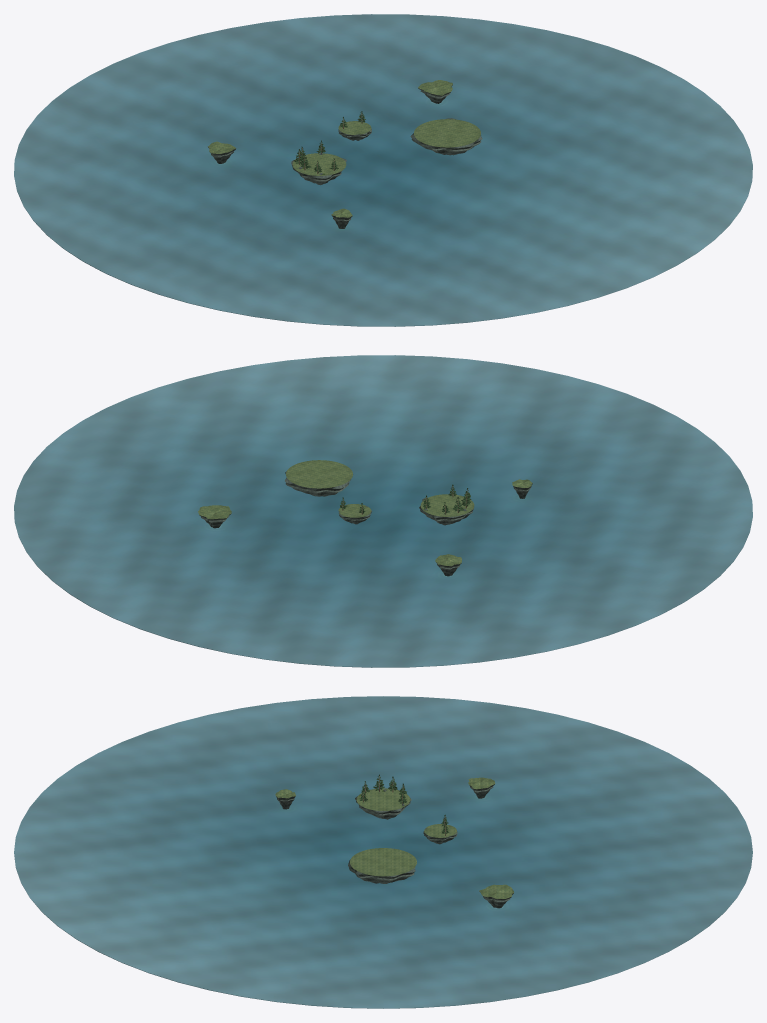
The model's file is island-scenery-atelier.glb.
3 renders of one model, top to bottom at view 1: azimuth 30°, elevation 25°; view 2: azimuth 150°, elevation 25°; view 3: azimuth 270°, elevation 25°, orthographic.
Visible parts, largest first — view 1: Workshop island scenery; view 2: Workshop island scenery; view 3: Workshop island scenery.
Boxes of the visible parts, left/top/right/bottom form: Workshop island scenery: left=14, top=14, right=752, bottom=326; Workshop island scenery: left=14, top=355, right=752, bottom=667; Workshop island scenery: left=14, top=696, right=752, bottom=1008.
Bounding box in the file's own units: 220 × 13.09 × 220.
5 materials, 4 textured.
